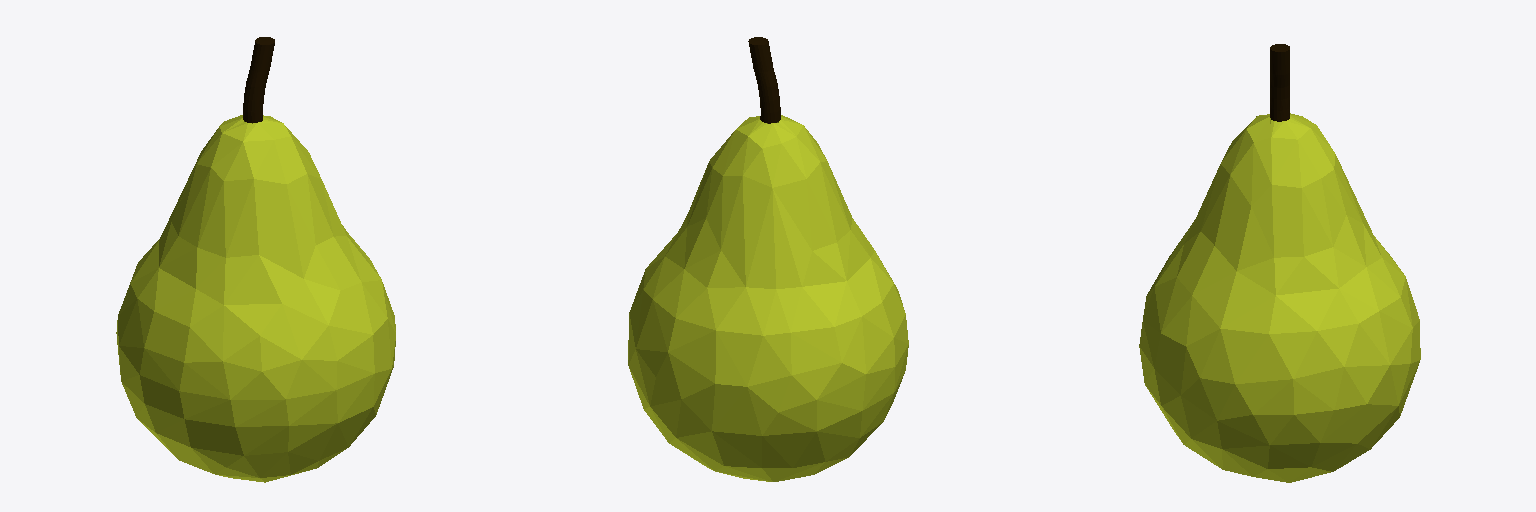
The model's file is pear.obj.
3 renders of one model, left to right at view 1: azimuth 30°, elevation 25°; view 2: azimuth 150°, elevation 25°; view 3: azimuth 270°, elevation 25°, orthographic.
Visible parts, largest first — view 1: Pear; view 2: Pear; view 3: Pear.
Boxes of the visible parts, box(x1,y1,x2,y2) form: Pear: box(116, 37, 395, 482); Pear: box(628, 37, 908, 481); Pear: box(1139, 44, 1420, 482).
Size of the model in its own units: 1.86 by 3.1 by 1.86.